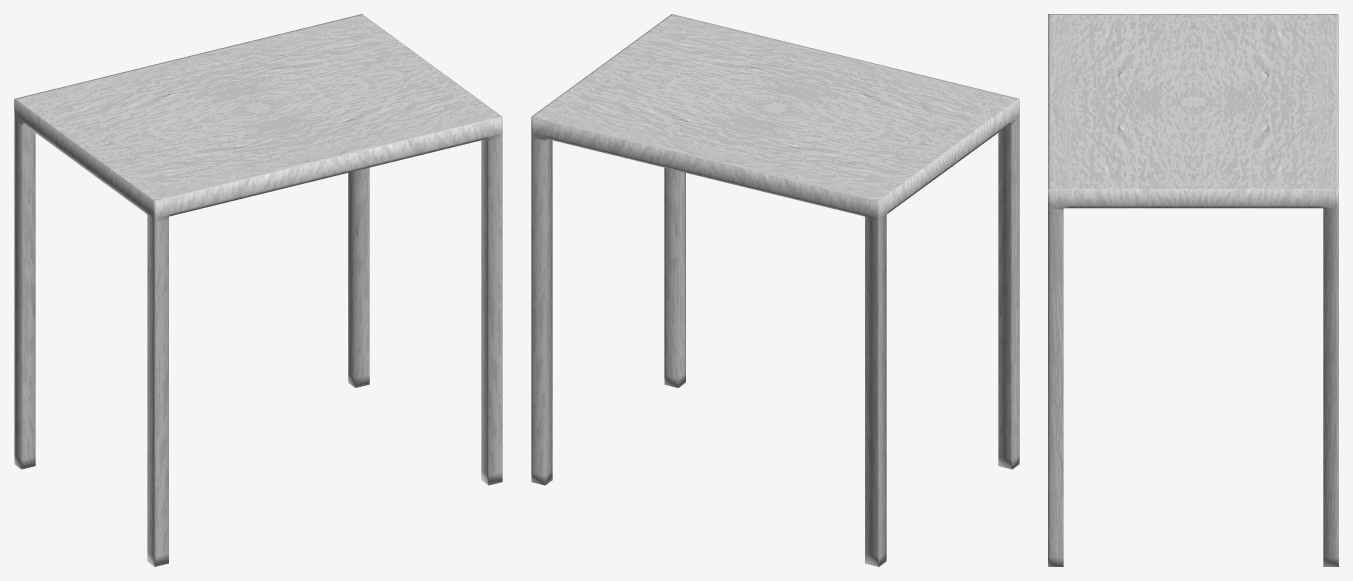
Rendered from Table01.fbx.
3 views of the same model, side by side, from view 1: azimuth 30°, elevation 25°; view 2: azimuth 150°, elevation 25°; view 3: azimuth 270°, elevation 25° (orthographic). The views are drawn at different scales.
Visible parts, largest first — view 1: Table; view 2: Table; view 3: Table.
Boxes of the visible parts, <box> form: Table: <box>14,14,502,566</box>; Table: <box>531,14,1019,566</box>; Table: <box>1048,14,1338,566</box>.
Bounding box in the file's own units: 100 × 100 × 70.
